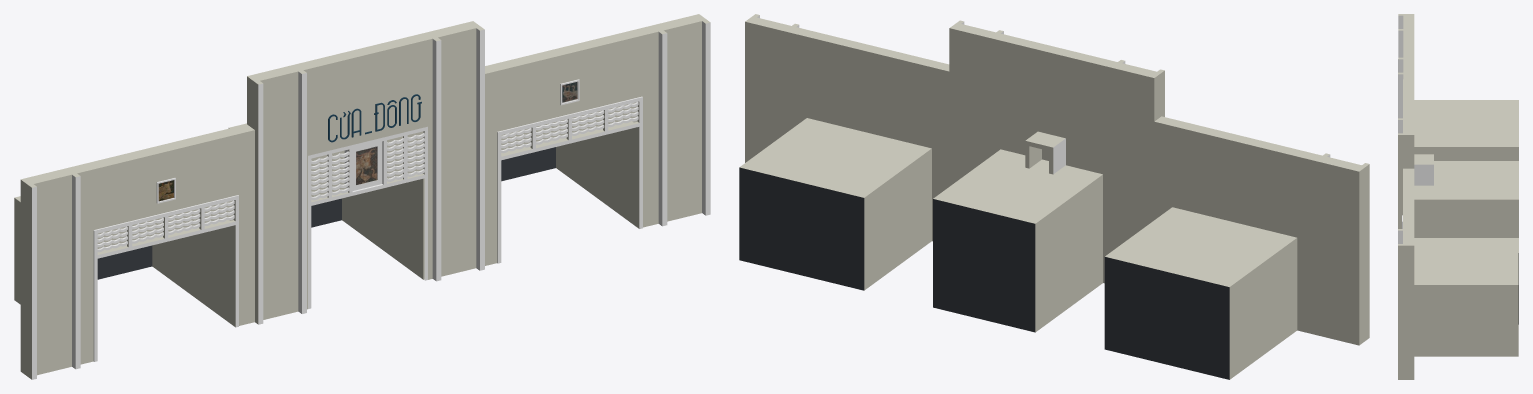
The model's file is cuaDong.glb.
3 views of the same model, side by side, from view 1: azimuth 30°, elevation 25°; view 2: azimuth 150°, elevation 25°; view 3: azimuth 270°, elevation 25° (orthographic). The views are drawn at different scales.
Visible parts, largest first — view 1: _C-Component#17 (Loose Mesh).003, _C-Component#17 (Loose Mesh).002, _C-Component#8 (Loose Mesh), _C-Component#8 (Loose Mesh).001, C-Component#42; view 2: _C-Component#17 (Loose Mesh).003, _C-Component#17 (Loose Mesh).002, _C-Component#8 (Loose Mesh).001, _C-Component#8 (Loose Mesh); view 3: _C-Component#17 (Loose Mesh).002, _C-Component#8 (Loose Mesh), _C-Component#17 (Loose Mesh).003, _C-Component#8 (Loose Mesh).001.
Part boxes in pixels (box(x1,y1,x2,y2)): _C-Component#17 (Loose Mesh).003: box(14, 124, 254, 379); _C-Component#17 (Loose Mesh).002: box(485, 14, 710, 265); _C-Component#8 (Loose Mesh): box(311, 21, 484, 281); _C-Component#8 (Loose Mesh).001: box(228, 48, 367, 324); C-Component#42: box(356, 146, 377, 184); _C-Component#17 (Loose Mesh).003: box(1104, 116, 1369, 379); _C-Component#17 (Loose Mesh).002: box(739, 14, 949, 290); _C-Component#8 (Loose Mesh).001: box(984, 48, 1164, 332); _C-Component#8 (Loose Mesh): box(933, 20, 1058, 319); _C-Component#17 (Loose Mesh).002: box(1398, 168, 1518, 379); _C-Component#8 (Loose Mesh): box(1398, 96, 1518, 237); _C-Component#17 (Loose Mesh).003: box(1398, 14, 1518, 160); _C-Component#8 (Loose Mesh).001: box(1398, 57, 1518, 180).
Bounding box in the file's own units: 26.2 × 8.86 × 5.78.
6 materials, 2 textured.
